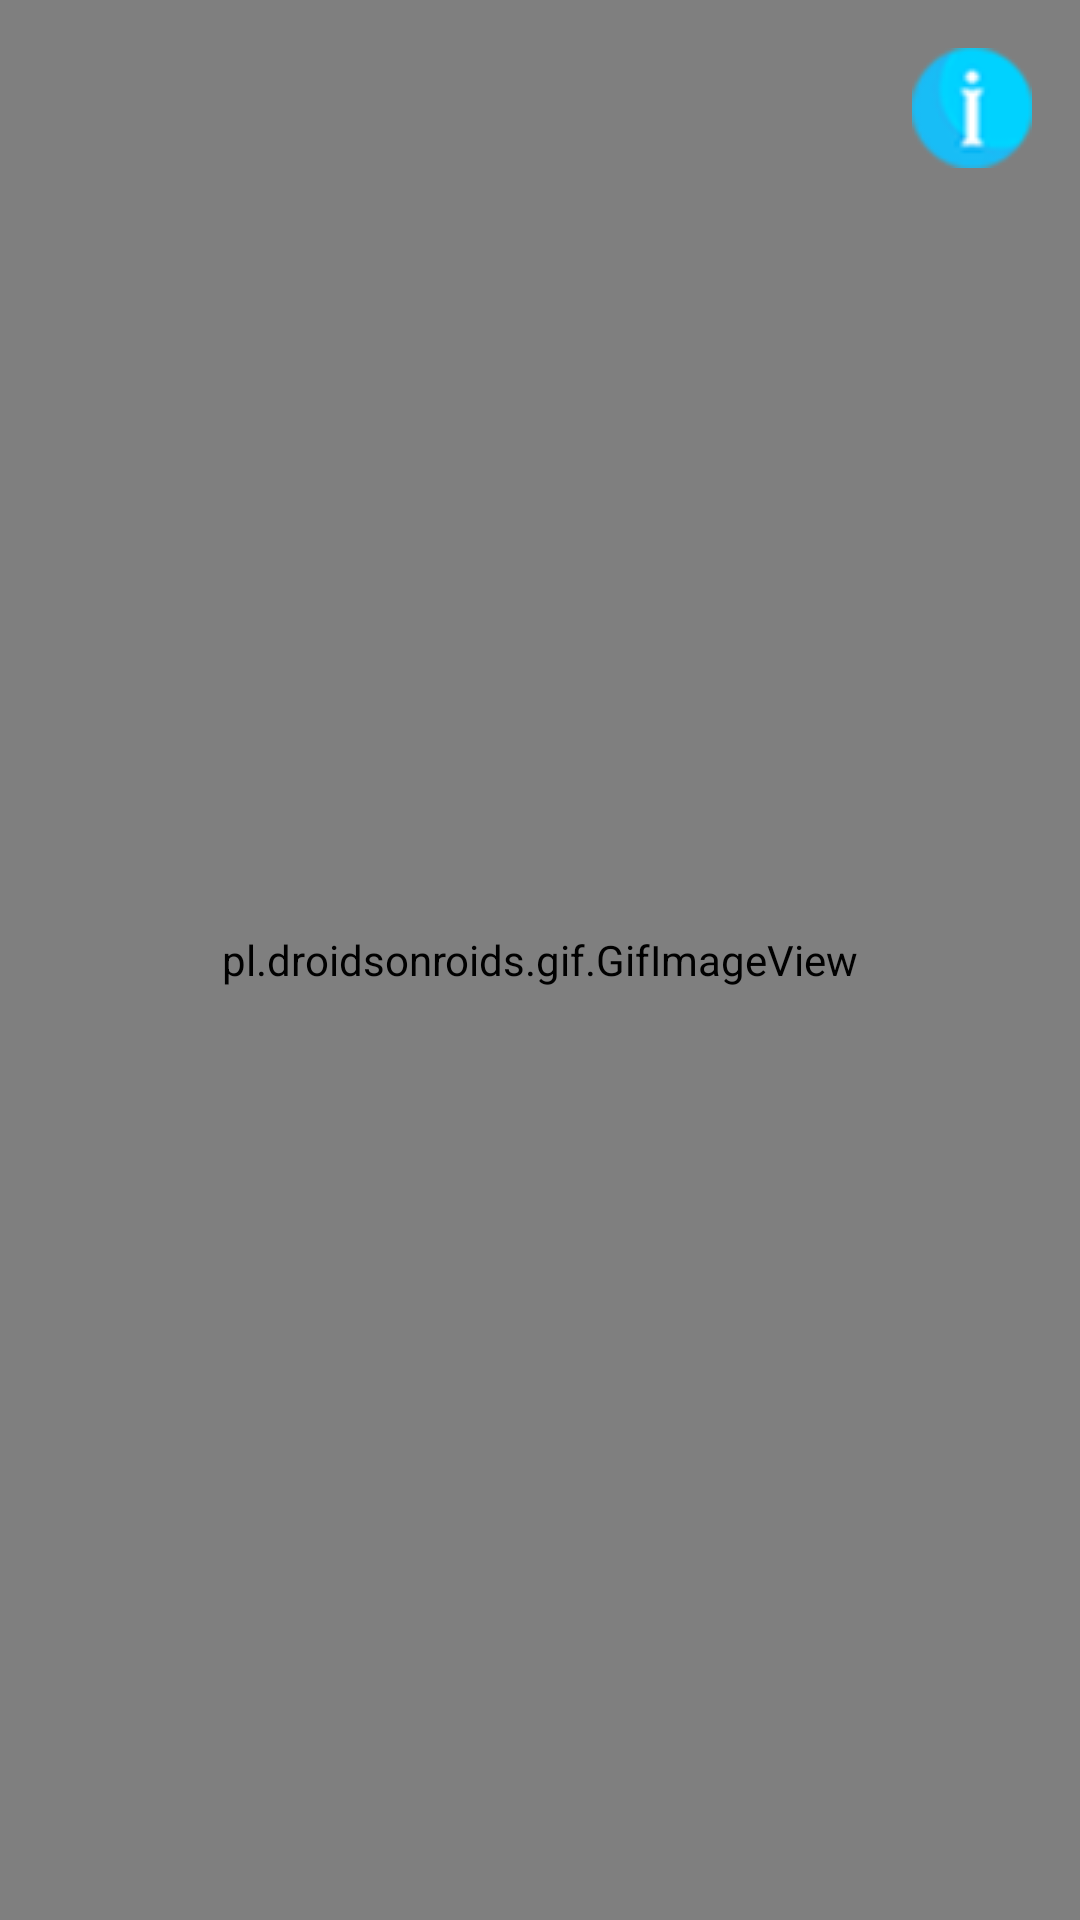

Named icons in this screenshot (1080w x 1920h) and their bounding boxes, (x1, y1, x2, y2):
info: (912, 48, 1032, 168)
